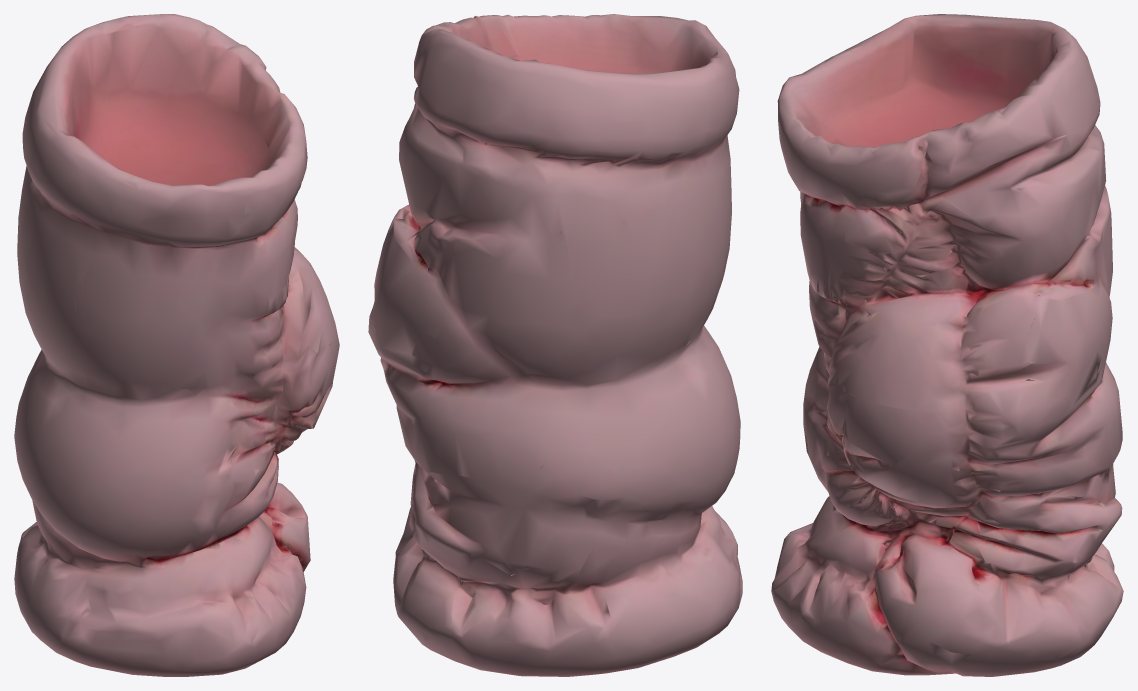
File: 02_6_gs_pv_ii_l_vase-opt-v9.glb
The picture shows the model from 3 angles, left to right: view 1: azimuth 30°, elevation 25°; view 2: azimuth 150°, elevation 25°; view 3: azimuth 270°, elevation 25°; orthographic projection. The views are drawn at different scales.
Parts seen in each view (by area): view 1: tripo_material_c7cd4509-8fca-4b43-8605-26b4f7c16b58; view 2: tripo_material_c7cd4509-8fca-4b43-8605-26b4f7c16b58; view 3: tripo_material_c7cd4509-8fca-4b43-8605-26b4f7c16b58.
Boxes of the visible parts, bbox=[...] form: tripo_material_c7cd4509-8fca-4b43-8605-26b4f7c16b58: bbox=[14, 14, 339, 676]; tripo_material_c7cd4509-8fca-4b43-8605-26b4f7c16b58: bbox=[368, 14, 742, 676]; tripo_material_c7cd4509-8fca-4b43-8605-26b4f7c16b58: bbox=[771, 14, 1123, 676].
Size of the model in its own units: 0.2402 by 0.4401 by 0.2404.
1 material, 1 textured.
